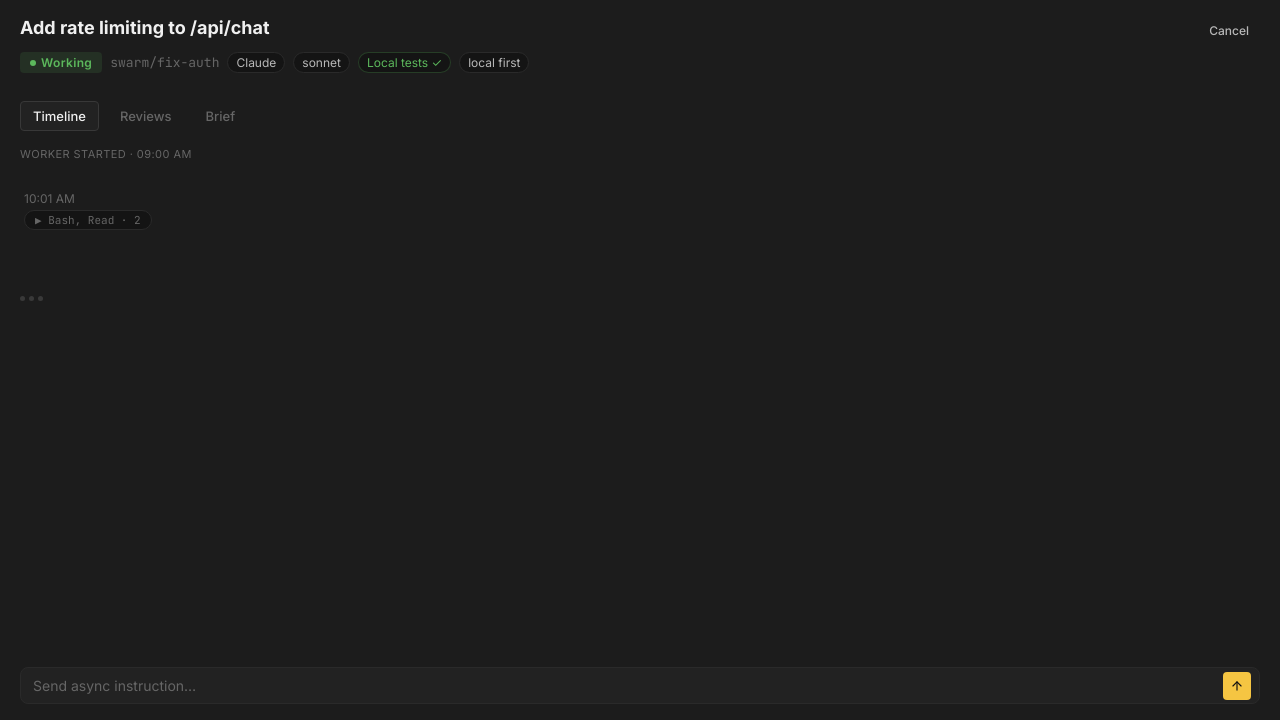
Scenario: WorkerDetailV2 › expands tool group on click to show individual tools
This screenshot has width=1280, height=720.
Check: the element with test id "tool-group" shows "▶", box [35,213,48,227]
// Click to expand
Click the element with test id "tool-group": (88, 210) [24,191,152,230]
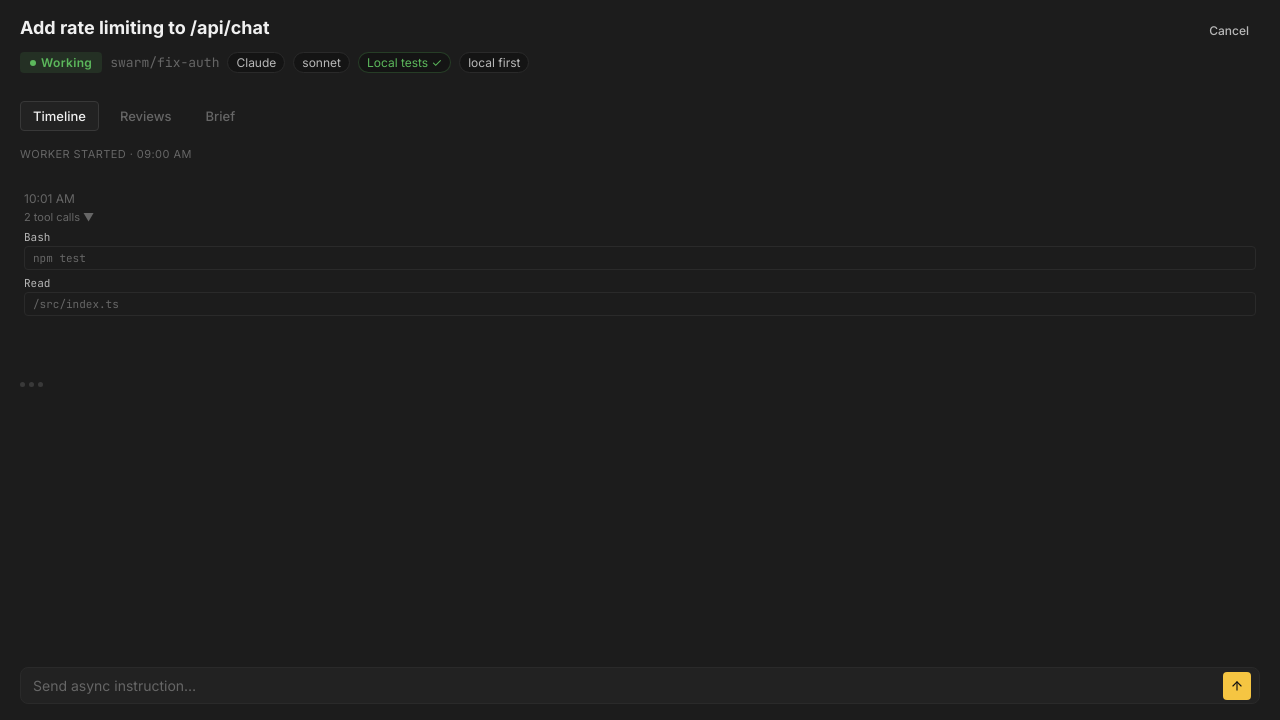
Check: the element with test id "tool-group" shows "▼", box [80,210,94,224]
Check: the element with test id "tool-group" shows "2 tool calls", box [24,189,1256,318]
Check: the element with test id "tool-group" shows "npm test", box [33,251,86,265]
